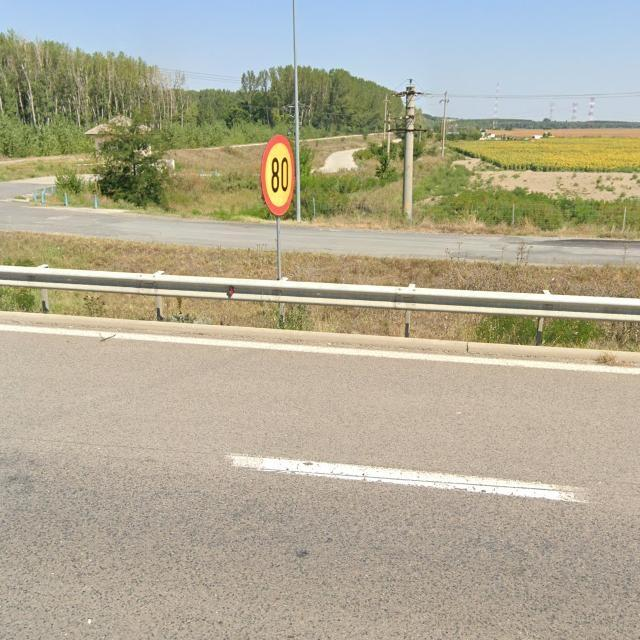forb_speed_over_80: (261, 134, 295, 215)
